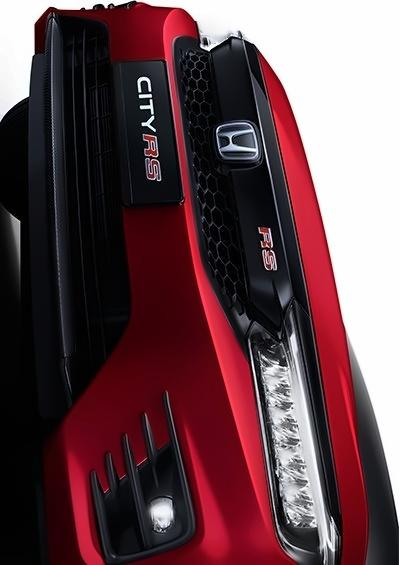Car hood: (254, 49, 400, 565)
Front bumper: (30, 0, 255, 565)
Headlight - -L-: (243, 296, 342, 565)
